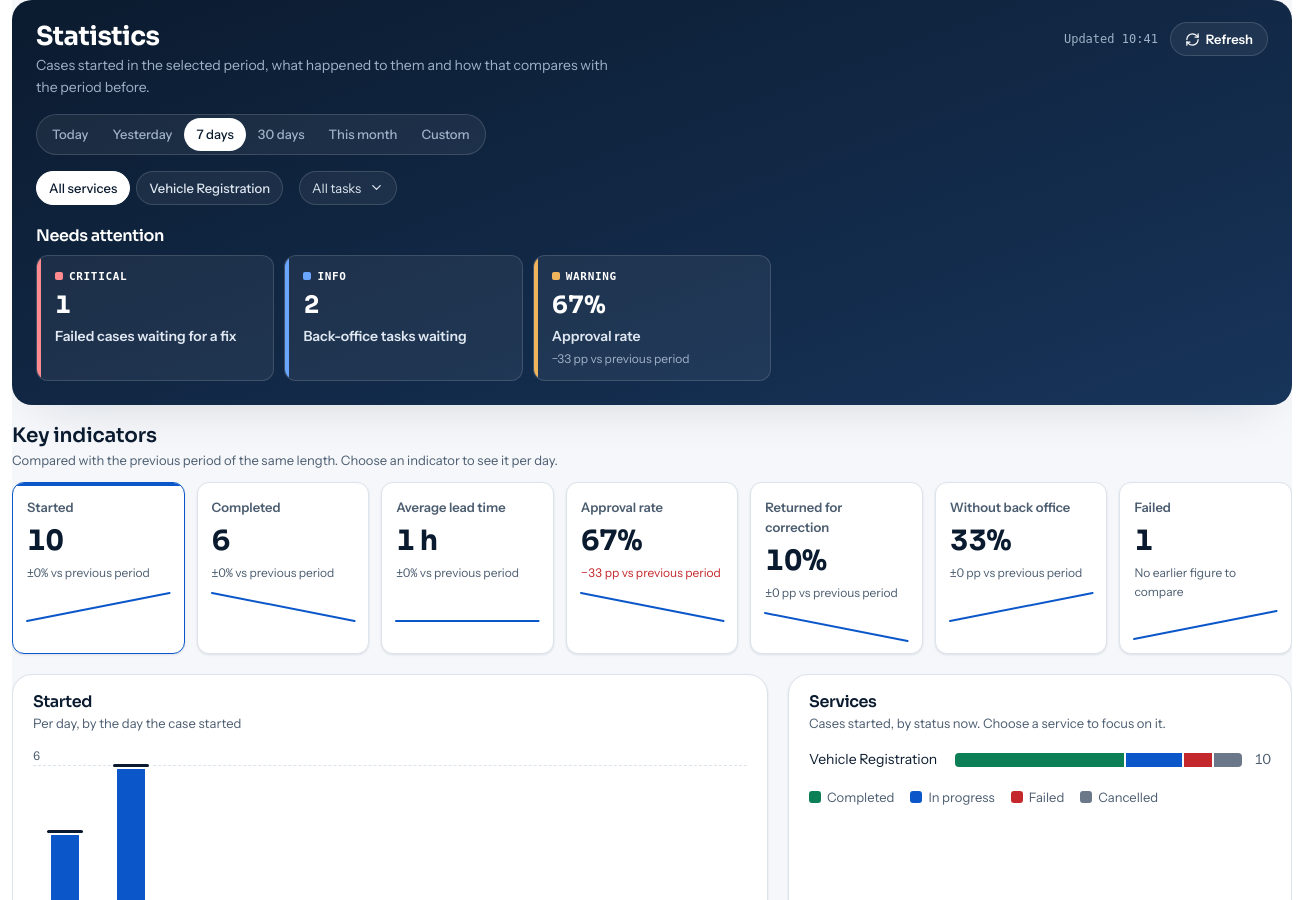
Scenario: StatisticsPage › shows the chosen indicator in the trend chart
The image size is (1304, 900).
Expected: the heading with id "stats-trend" reads "Started", [33,691,92,712]
Click the button with class "stats-kpi" that starts with "Approval rate" at (652, 568), box [566,482,738,654]
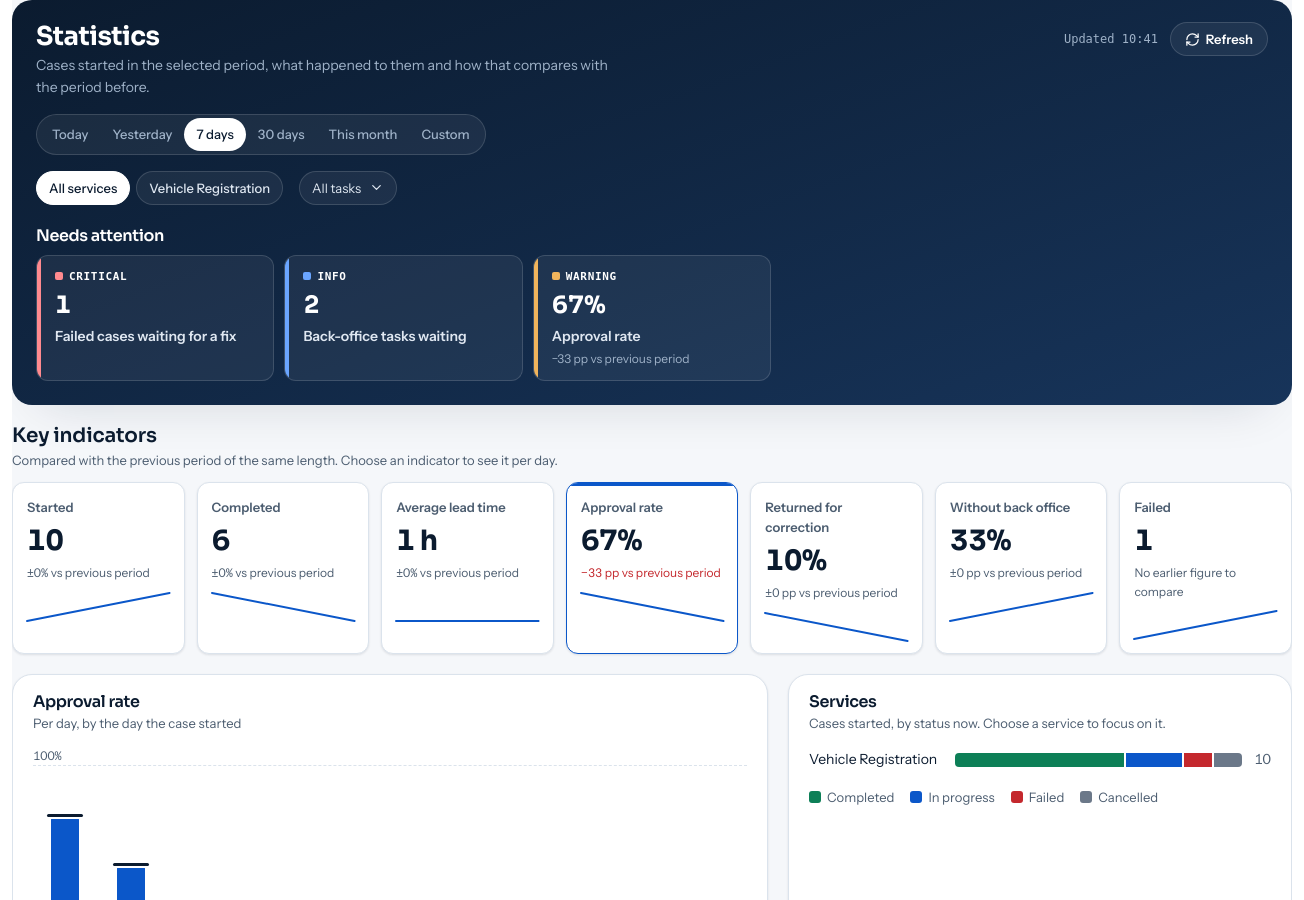
Result: the heading with id "stats-trend" reads "Approval rate" at [33,691,140,712]
